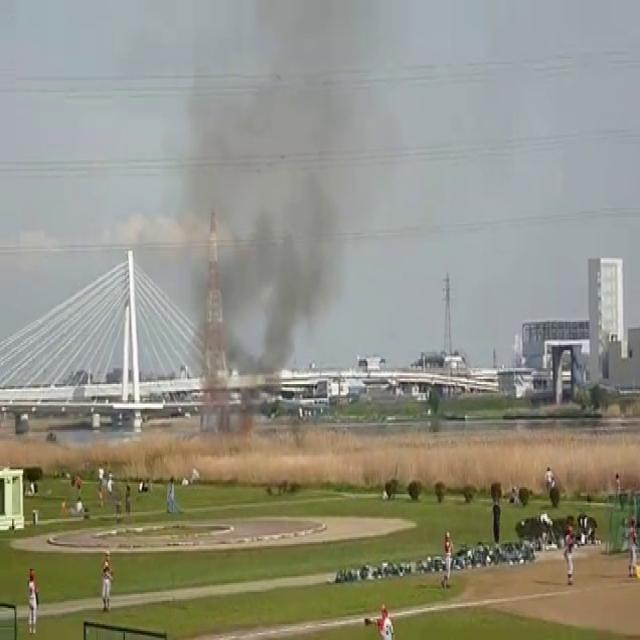Smoke: (162, 1, 416, 366)
